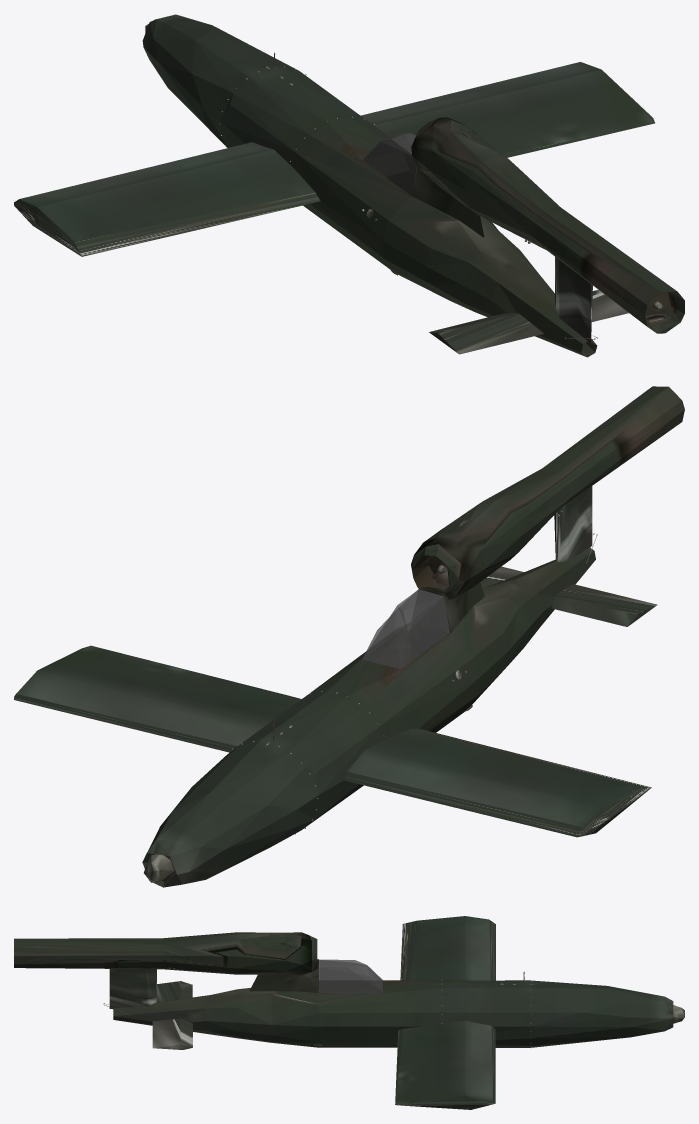
3 renders of one model, top to bottom at view 1: azimuth 30°, elevation 25°; view 2: azimuth 150°, elevation 25°; view 3: azimuth 270°, elevation 25°, orthographic. The views are drawn at different scales.
Visible parts, largest first — view 1: defaultMaterial (×4); view 2: defaultMaterial (×4); view 3: defaultMaterial (×4).
Part boxes in pixels (<box>): defaultMaterial (×4): <box>14,14,684,357</box>; defaultMaterial (×4): <box>14,386,684,887</box>; defaultMaterial (×4): <box>14,916,673,1109</box>.
Bounding box in the file's own units: 3.14 × 0.8915 × 4.88.
Materials: 7 (6 with a texture image).
